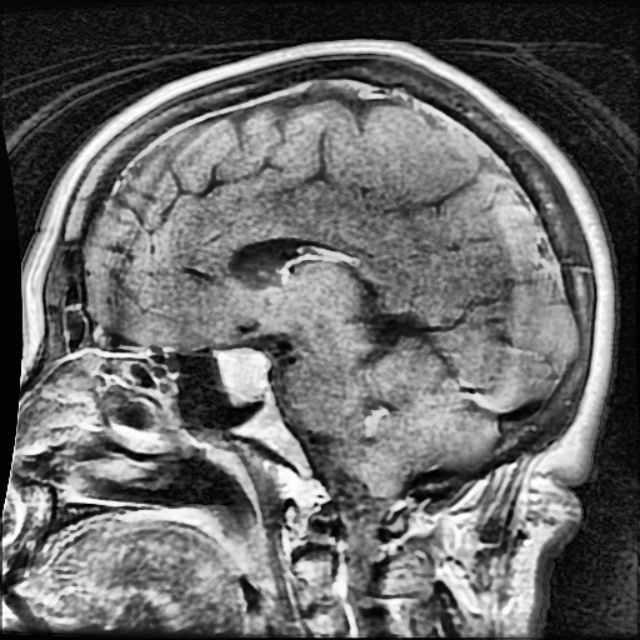Pituitary: (215, 348, 268, 403)
